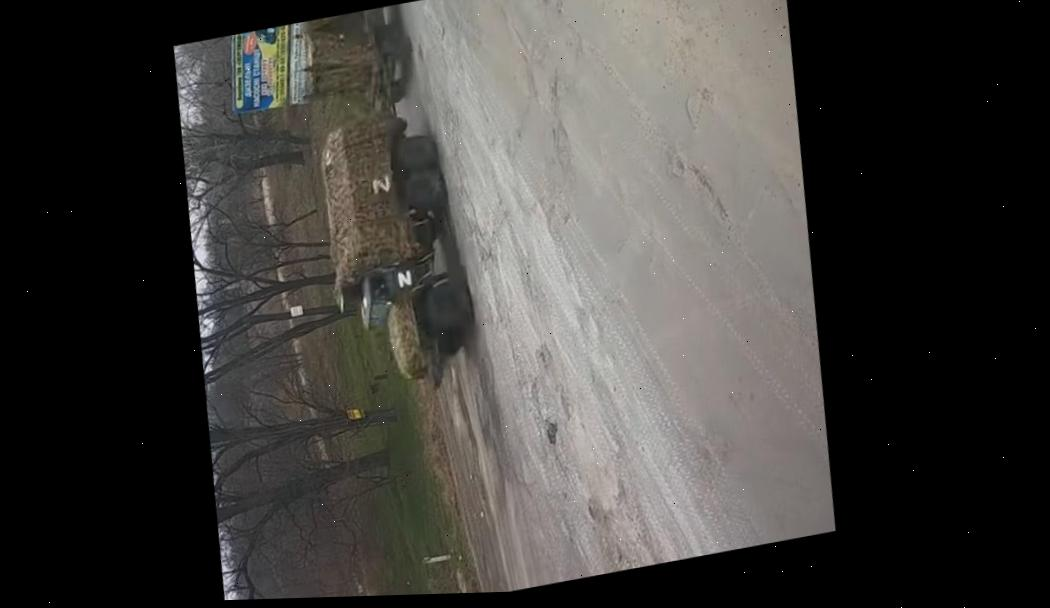truck: (264, 0, 499, 413)
